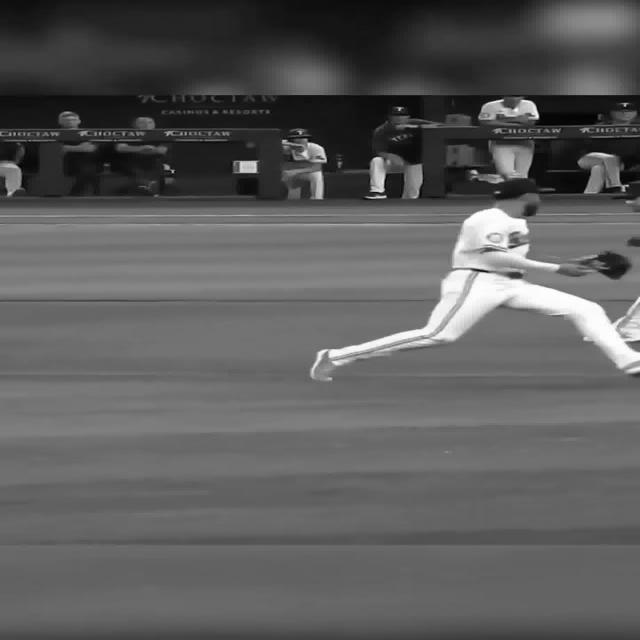baseball_glove: (586, 250, 630, 280)
shoe: (309, 348, 335, 382), (620, 359, 640, 374), (363, 192, 387, 199)
